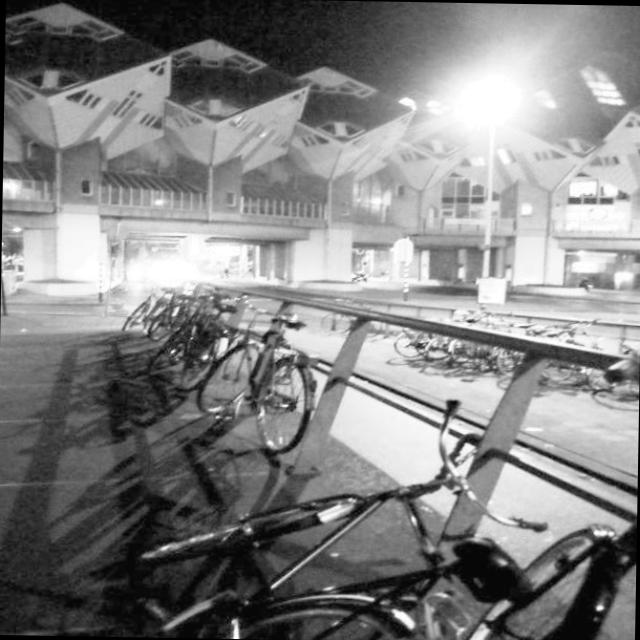Bicycle: (133, 419, 638, 640), (200, 294, 314, 458), (100, 262, 210, 370)
